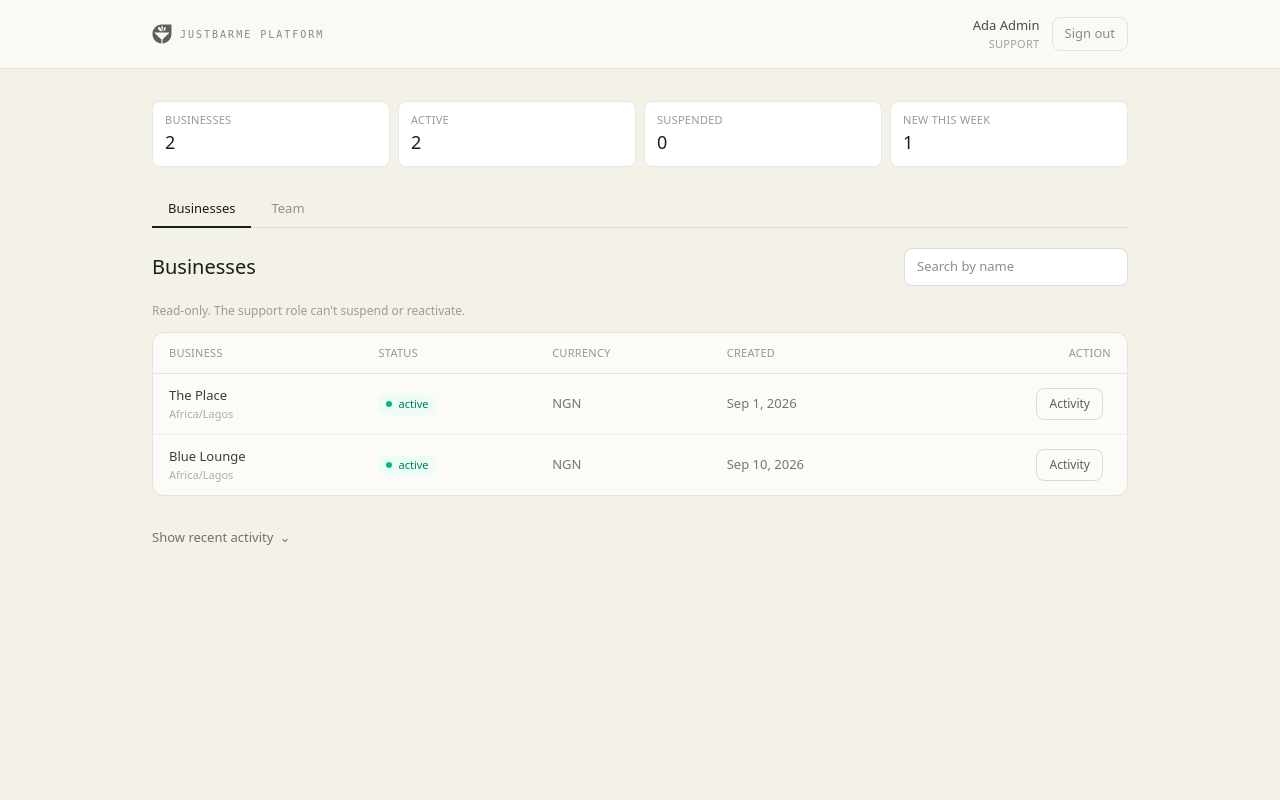
Test: platform admin dashboard › opens a read-only activity summary for either role, without suspend controls for support
Expected: the text "The Place" is shown, x1=169 y1=386 x2=227 y2=404
Click the button "Activity" in the row of "The Place" at (1070, 404), box x1=1036 y1=388 x2=1103 y2=420
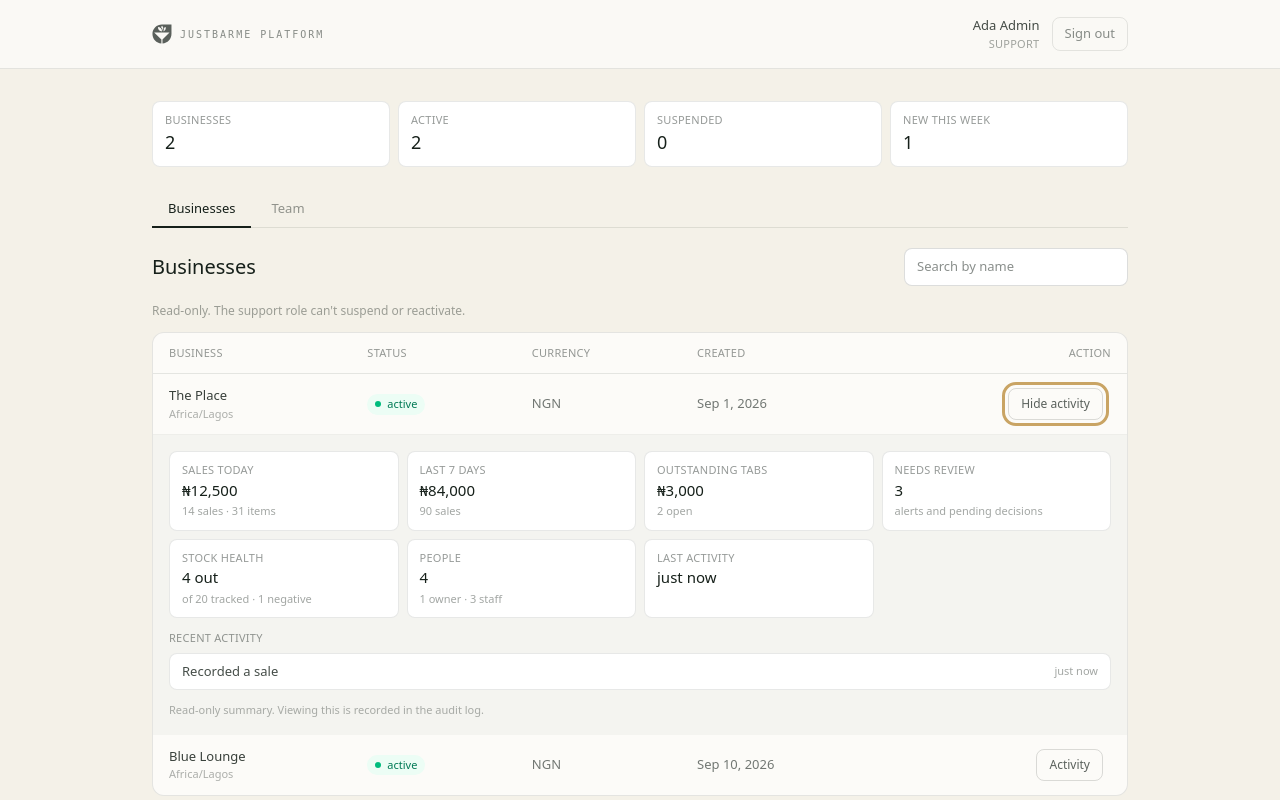
Expected: the text "Sales today" is shown, x1=182 y1=462 x2=254 y2=477
Expected: the text "₦12,500" is shown, x1=182 y1=480 x2=238 y2=500
Expected: the text "1 owner · 3 staff" is shown, x1=420 y1=590 x2=502 y2=606
